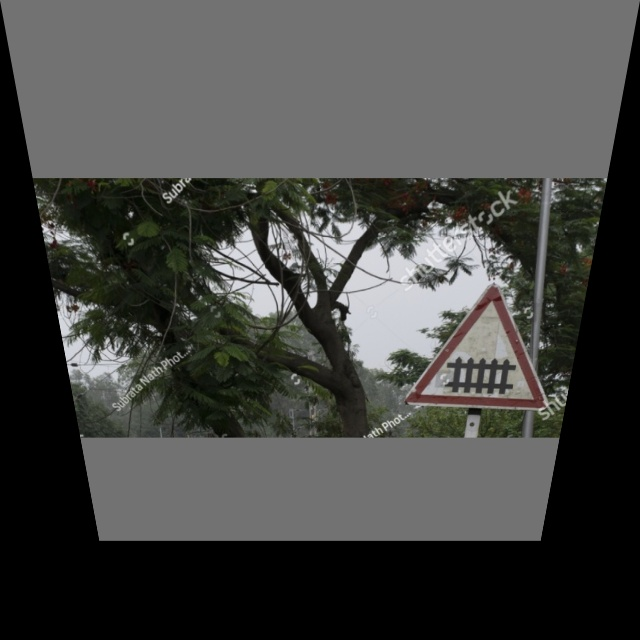Guarded_Level_Crossing: (406, 285, 564, 409)
